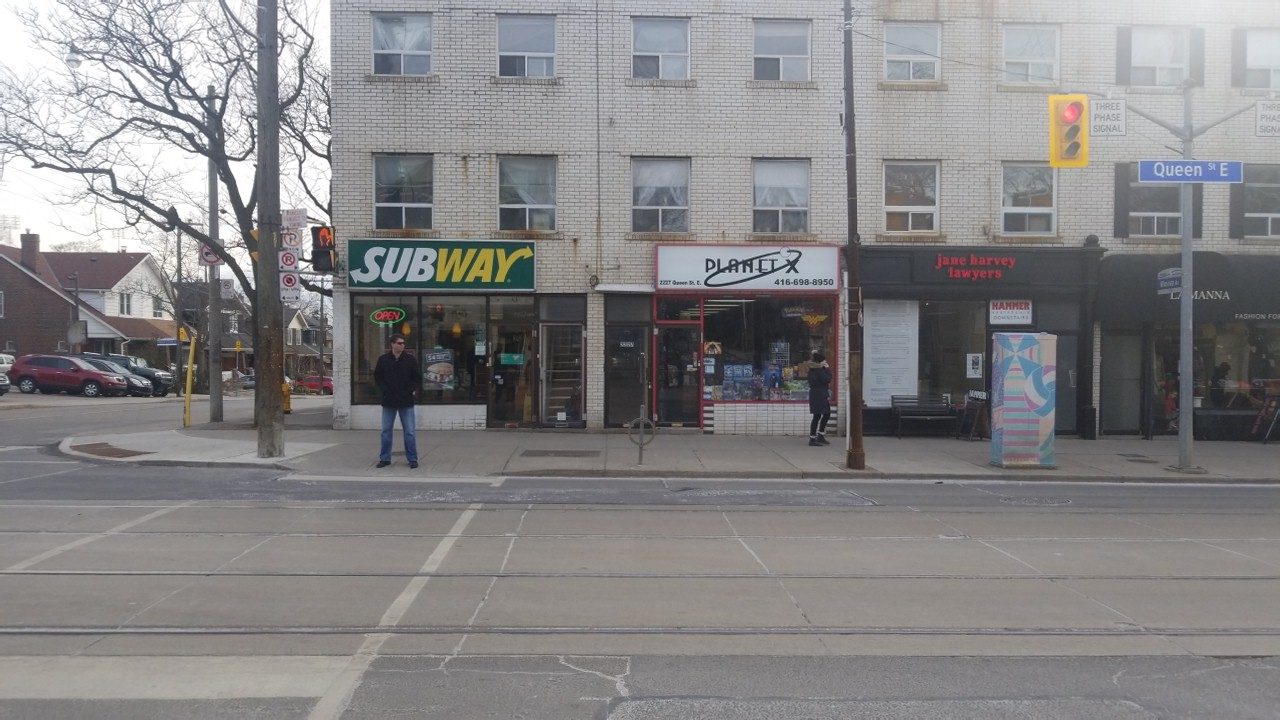light: (309, 225, 336, 272)
